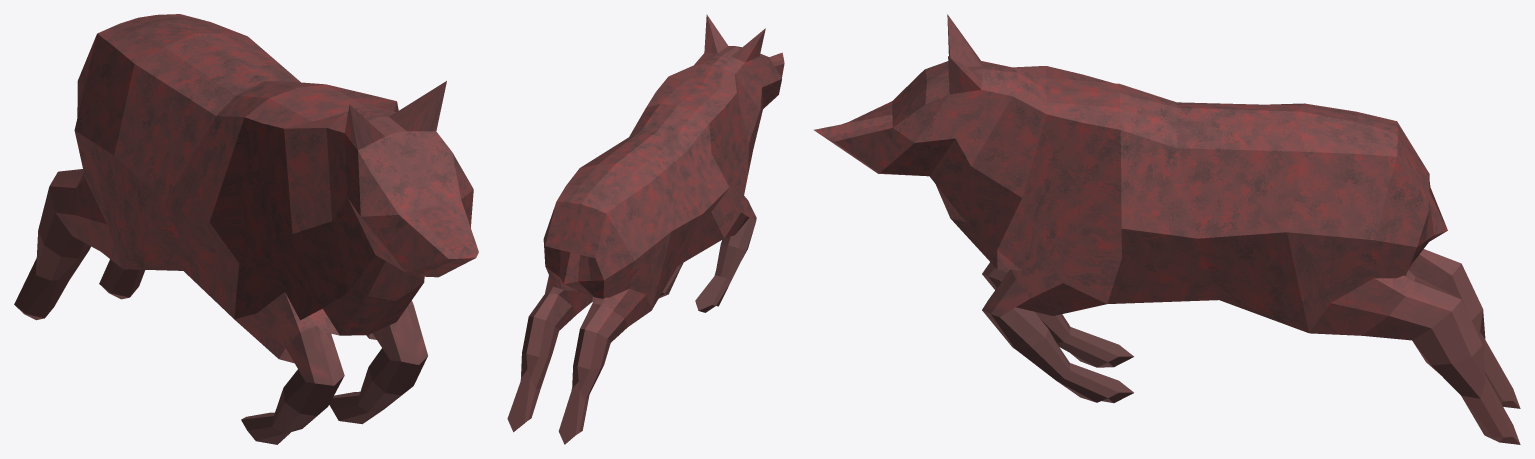
File: piesblend_000024.obj
3 views of the same model, side by side, from view 1: azimuth 30°, elevation 25°; view 2: azimuth 150°, elevation 25°; view 3: azimuth 270°, elevation 25° (orthographic). The views are drawn at different scales.
Parts seen in each view (by area): view 1: Cube; view 2: Cube; view 3: Cube.
Boxes of the visible parts, left/top/right/bottom form: Cube: left=14, top=14, right=478, bottom=444; Cube: left=507, top=14, right=784, bottom=444; Cube: left=814, top=14, right=1520, bottom=444.
Size of the model in its own units: 2.56 by 6.37 by 10.39.
1 material, 1 textured.
